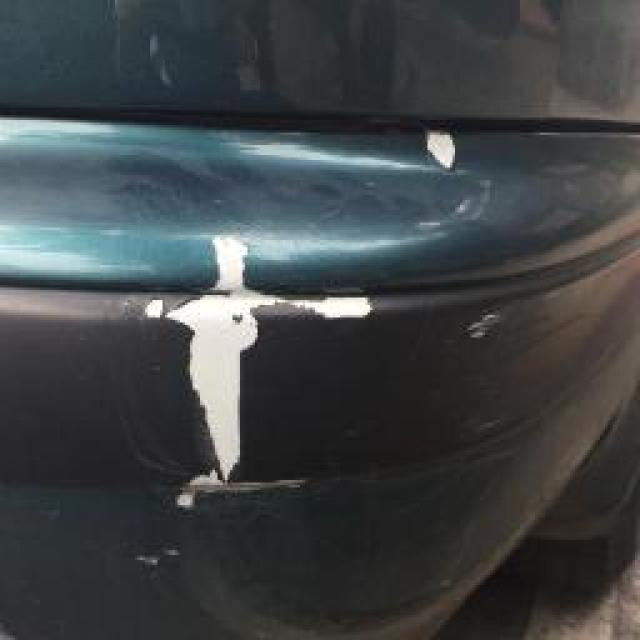Bumper: (83, 109, 589, 581)
